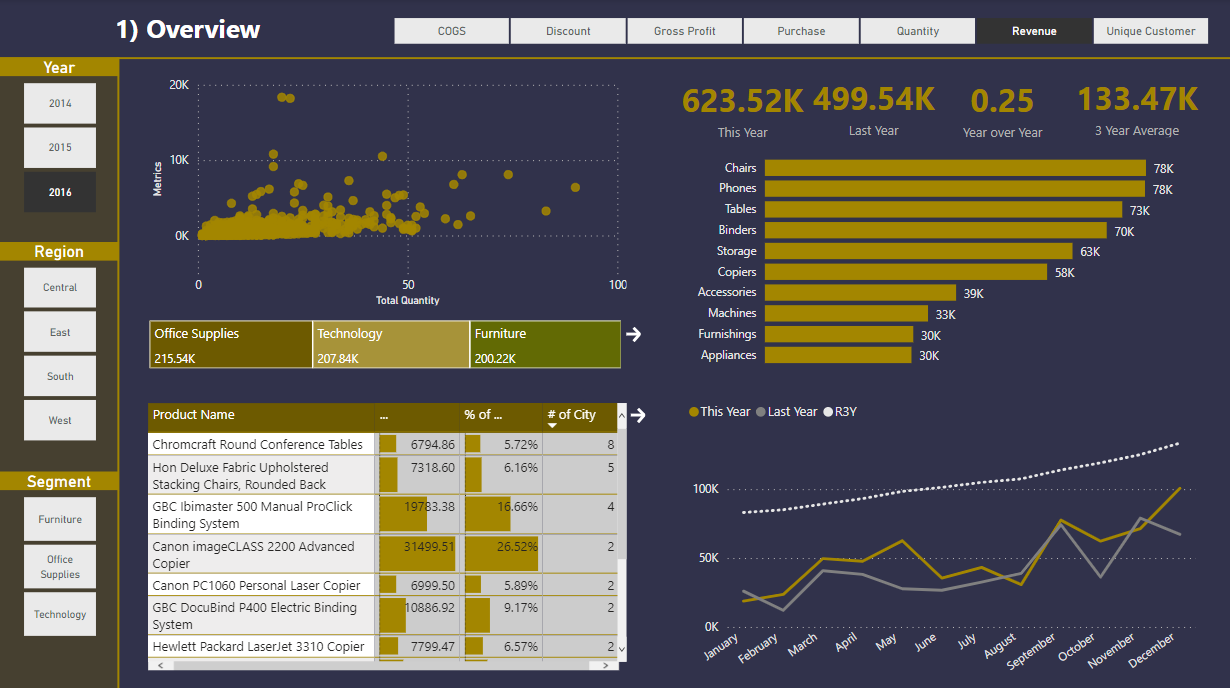

The dashboard page shown, as its layout file describes it:
{"tool":"powerbi","page":{"name":"1) Overview","canvas":[1280,720],"ordinal":0},"visuals":[{"type":"shape","title":"Background Shape","box":[0,0,1280,720.1],"z":0},{"type":"shape","title":"Rectangle Slicer BG","box":[0,61.3,125.2,657.9],"z":1000},{"type":"slicer","title":"Metrics","fields":{"Values":["Switch.Metrics"]},"box":[385.3,12.4,894.9,40.8],"z":2000},{"type":"slicer","title":"Region","fields":{"Values":["Dimension Table_Location.Region"]},"box":[0,252.5,124.8,213.2],"z":3000},{"type":"shape","box":[0,52.4,1280.2,16.9],"z":4000},{"type":"slicer","title":"Year","fields":{"Values":["Calendar Table.Year"]},"box":[0,60.9,124.8,168],"z":5000},{"type":"shape","box":[119.9,61.3,8,658.7],"z":6000},{"type":"slicer","title":"Segment","fields":{"Values":["Dimension Table_Product.Product Category"]},"box":[0,490.2,124.8,177.8],"z":7000},{"type":"textbox","box":[115.4,6.2,325.8,55],"z":8000},{"type":"lineChart","title":"by Month","fields":{"Y":["Visualization Measures.Switch Metrics","Visualization Measures.Switch Metrics LY","Visualization Measures.Switch Metrics R3Y"],"Category":["Calendar Table.Date.Variation.Date Hierarchy.Quarter","Calendar Table.Date.Variation.Date Hierarchy.Month","Calendar Table.Date.Variation.Date Hierarchy.Day"]},"box":[710.2,407.5,537.1,311.6],"z":9000},{"type":"actionButton","box":[646.3,336.5,34.6,24],"z":14000},{"type":"treemap","fields":{"Group":["Dimension Table_Product.Product Category"],"Values":["Visualization Measures.Switch Metrics"]},"box":[150.9,328.5,499.8,59.5],"z":15000},{"type":"pivotTable","title":"Matrix","fields":{"Values":["Visualization Measures.Switch Metrics","Divide(Visualization Measures.Switch Metrics, ScopedEval(Visualization Measures.Switch Metrics, []))","Count(Dimension Table_Location.City)"],"Rows":["Dimension Table_Product.Product Name"]},"box":[149.1,413.7,506.9,287.6],"z":17000},{"type":"actionButton","box":[651.6,420.8,31.1,24],"z":18000},{"type":"scatterChart","fields":{"X":["Core Measures.Total Quantity"],"Y":["Visualization Measures.Switch Metrics"],"Category":["Dimension Table_Customer.Customer Name"]},"box":[153.6,75.5,502.5,248.6],"z":21000},{"type":"card","fields":{"Values":["Visualization Measures.Switch Metrics"]},"box":[696,76.4,150.9,73.7],"z":22000},{"type":"card","fields":{"Values":["Visualization Measures.Switch Metrics LY"]},"box":[832.7,75.5,149.1,73.7],"z":23000},{"type":"card","fields":{"Values":["Time Measures.YoY Swtich Metrics"]},"box":[967.7,76.4,149.1,73.7],"z":24000},{"type":"card","fields":{"Values":["Time Measures.Switch Metrics R3Y"]},"box":[1102.6,75.5,157.1,73.7],"z":25000},{"type":"clusteredBarChart","fields":{"Category":["Dimension Table_Product.Product Sub-Category","Dimension Table_Product.Product Name"],"Y":["Visualization Measures.Switch Metrics"]},"box":[715.6,144.7,521.1,246.8],"z":26000}]}

Visuals, with their boxes in screenshot pixels (x1, y1, x2, y2), scaled from the page's 1280x720 canvas onto the 1230x688 screenshot:
"Background Shape" shape: region(0, 0, 1229, 687)
"Rectangle Slicer BG" shape: region(0, 59, 120, 687)
"Metrics" slicer: region(370, 12, 1229, 51)
"Region" slicer: region(0, 241, 120, 445)
shape: region(0, 50, 1229, 66)
"Year" slicer: region(0, 58, 120, 219)
shape: region(115, 59, 123, 687)
"Segment" slicer: region(0, 468, 120, 638)
textbox: region(111, 6, 424, 58)
"by Month" lineChart: region(682, 389, 1199, 687)
actionButton: region(621, 322, 654, 344)
treemap - Dimension Table_Product.Product Category x Visualization Measures.Switch Metrics: region(145, 314, 625, 371)
"Matrix" pivotTable: region(143, 395, 630, 670)
actionButton: region(626, 402, 656, 425)
scatterChart - Core Measures.Total Quantity x Visualization Measures.Switch Metrics: region(148, 72, 630, 310)
card - Visualization Measures.Switch Metrics: region(669, 73, 814, 143)
card - Visualization Measures.Switch Metrics LY: region(800, 72, 943, 143)
card - Time Measures.YoY Swtich Metrics: region(930, 73, 1073, 143)
card - Time Measures.Switch Metrics R3Y: region(1060, 72, 1210, 143)
clusteredBarChart - Dimension Table_Product.Product Sub-Category x Dimension Table_Product.Product Name: region(688, 138, 1188, 374)
